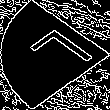L_SE: (15, 26, 95, 84)
